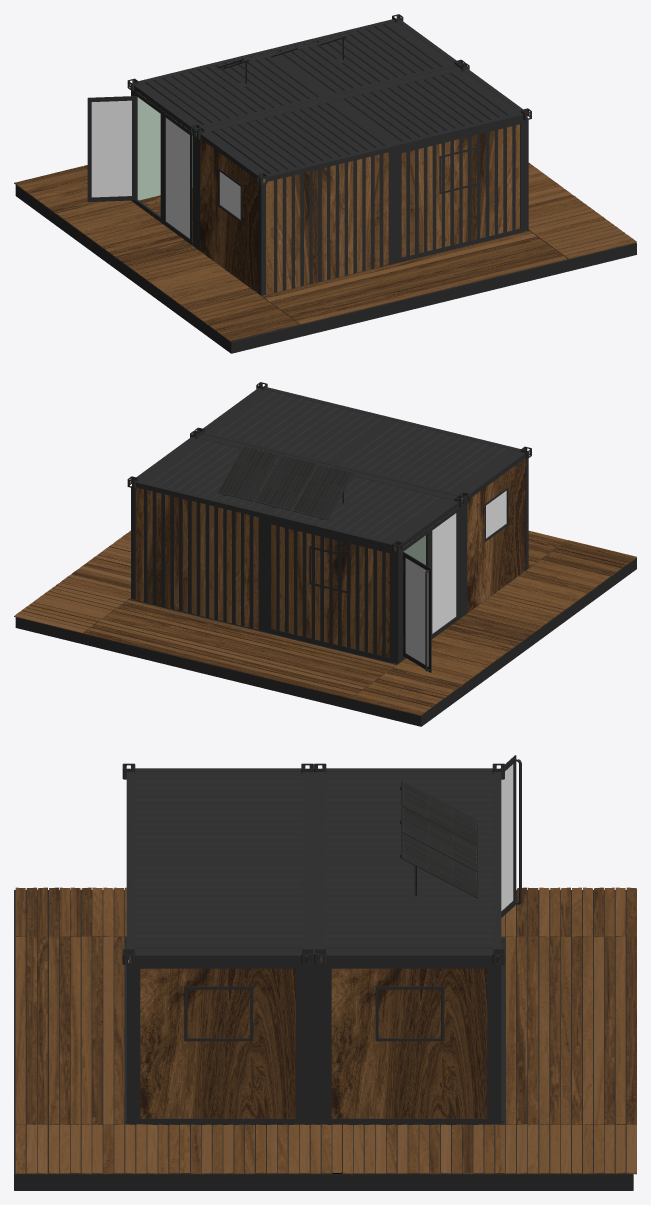
The model's file is duo-oasis.glb.
3 renders of one model, top to bottom at view 1: azimuth 30°, elevation 25°; view 2: azimuth 150°, elevation 25°; view 3: azimuth 270°, elevation 25°, orthographic. The views are drawn at different scales.
Parts seen in each view (by area): view 1: base, model_2_container_2_exterior_sealing_metal, model_2_container_1_exterior_sealing_metal, model_2_container_2_wall_2_none_finish_wood, model_2_container_2_wall_1_none_finish_wood, model_2_container_2_wall_2_none_exterior_metal, model_2_container_2_edges_metal, model_2_container_2_wall_3_window_finish_wood, model_2_container_2_wall_1_none_exterior_metal, model_2_container_1_wall_3_door_left_glass, model_2_container_1_edges_metal, model_2_support_metal (+8 smaller); view 2: base, model_2_container_2_exterior_sealing_metal, model_2_container_1_wall_5_none_finish_wood, model_2_container_1_exterior_sealing_metal, model_2_container_1_wall_4_none_finish_wood, model_2_container_1_wall_5_none_exterior_metal, model_2_container_1_edges_metal, model_2_container_2_wall_3_window_finish_wood, model_2_container_1_wall_4_none_exterior_metal, model_2_solar_panel_1_solar_semic, model_2_container_2_edges_metal, model_2_container_1_wall_3_door_right_glass (+8 smaller); view 3: base, model_2_container_2_exterior_sealing_metal, model_2_container_1_exterior_sealing_metal, model_2_container_1_wall_6_none_finish_wood, model_2_container_2_wall_6_none_finish_wood, model_2_container_1_edges_metal, model_2_container_2_edges_metal, model_2_solar_panel_1_solar_semic, model_2_container_1_wall_6_balcony_frame_metal, model_2_container_2_wall_6_balcony_frame_metal, model_2_support_metal, model_2_container_1_wall_3_door_left_glass (+4 smaller).
Part boxes in pixels (left/top/right/bottom): base: left=14, top=163, right=636, bottom=353; model_2_container_2_exterior_sealing_metal: left=205, top=70, right=520, bottom=178; model_2_container_1_exterior_sealing_metal: left=139, top=21, right=454, bottom=129; model_2_container_2_wall_2_none_finish_wood: left=263, top=152, right=388, bottom=295; model_2_container_2_wall_1_none_finish_wood: left=401, top=124, right=526, bottom=257; model_2_container_2_wall_2_none_exterior_metal: left=263, top=151, right=392, bottom=292; model_2_container_2_edges_metal: left=194, top=63, right=531, bottom=296; model_2_container_2_wall_3_window_finish_wood: left=199, top=139, right=260, bottom=295; model_2_container_2_wall_1_none_exterior_metal: left=406, top=125, right=515, bottom=256; model_2_container_1_wall_3_door_left_glass: left=91, top=100, right=131, bottom=197; model_2_container_1_edges_metal: left=127, top=14, right=465, bottom=246; model_2_support_metal: left=194, top=52, right=458, bottom=263; base: left=14, top=530, right=636, bottom=726; model_2_container_2_exterior_sealing_metal: left=205, top=389, right=520, bottom=497; model_2_container_1_wall_5_none_finish_wood: left=132, top=487, right=258, bottom=629; model_2_container_1_exterior_sealing_metal: left=139, top=438, right=453, bottom=546; model_2_container_1_wall_4_none_finish_wood: left=271, top=524, right=396, bottom=664; model_2_container_1_wall_5_none_exterior_metal: left=144, top=489, right=261, bottom=630; model_2_container_1_edges_metal: left=127, top=431, right=465, bottom=664; model_2_container_2_wall_3_window_finish_wood: left=465, top=458, right=527, bottom=614; model_2_container_1_wall_4_none_exterior_metal: left=276, top=525, right=396, bottom=656; model_2_solar_panel_1_solar_semic: left=219, top=446, right=352, bottom=518; model_2_container_2_edges_metal: left=194, top=382, right=531, bottom=614; model_2_container_1_wall_3_door_right_glass: left=432, top=513, right=456, bottom=633; base: left=14, top=887, right=636, bottom=1190; model_2_container_2_exterior_sealing_metal: left=129, top=772, right=307, bottom=956; model_2_container_1_exterior_sealing_metal: left=320, top=772, right=498, bottom=956; model_2_container_1_wall_6_none_finish_wood: left=320, top=957, right=498, bottom=1125; model_2_container_2_wall_6_none_finish_wood: left=129, top=957, right=307, bottom=1124; model_2_container_1_edges_metal: left=314, top=763, right=504, bottom=1127; model_2_container_2_edges_metal: left=122, top=763, right=313, bottom=1127; model_2_solar_panel_1_solar_semic: left=403, top=782, right=476, bottom=895; model_2_container_1_wall_6_balcony_frame_metal: left=325, top=962, right=493, bottom=1124; model_2_container_2_wall_6_balcony_frame_metal: left=134, top=962, right=302, bottom=1124; model_2_support_metal: left=134, top=772, right=493, bottom=1124; model_2_container_1_wall_3_door_left_glass: left=501, top=764, right=513, bottom=910.
Size of the model in its own units: 9.21 by 3.46 by 8.51.
Materials: 7 (3 with a texture image).
